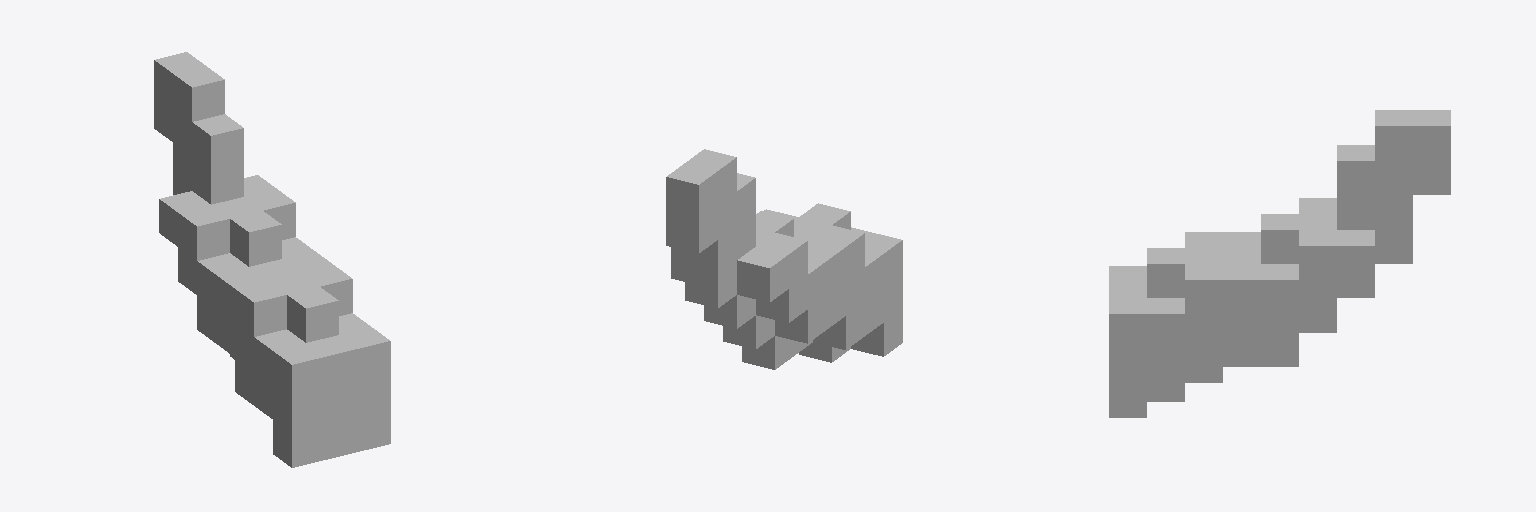
Rendered from wolftail.obj.
3 views of the same model, side by side, from view 1: azimuth 30°, elevation 25°; view 2: azimuth 150°, elevation 25°; view 3: azimuth 270°, elevation 25° (orthographic).
Parts seen in each view (by area): view 1: Wolf.001; view 2: Wolf.001; view 3: Wolf.001.
Part boxes in pixels (left/top/right/bottom): Wolf.001: left=154, top=52, right=390, bottom=467; Wolf.001: left=666, top=149, right=902, bottom=369; Wolf.001: left=1109, top=110, right=1450, bottom=417.
Size of the model in its own units: 3 by 8 by 9.